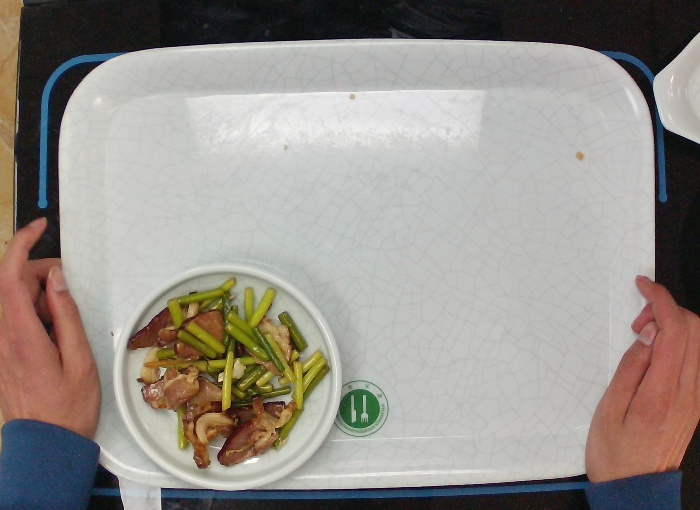JYsf-Xiao_Yuan_Pan: (111, 264, 338, 488)
